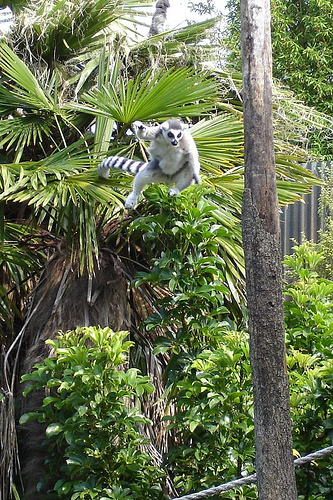cat: (98, 116, 204, 211)
